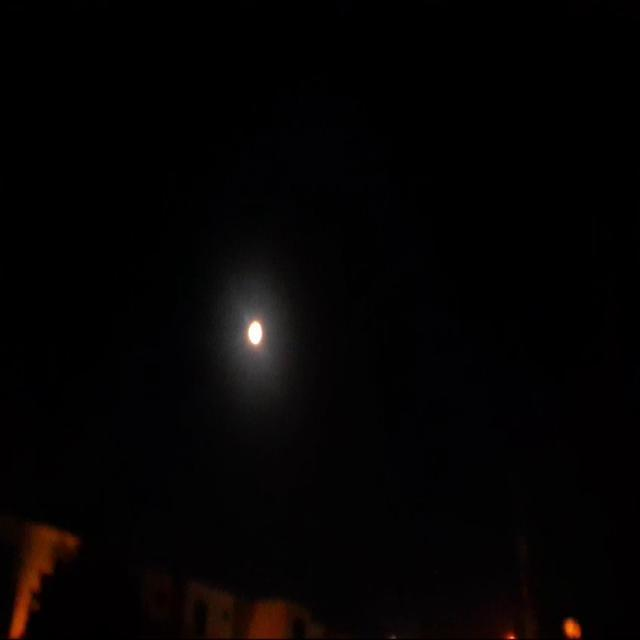moon: (242, 308, 264, 348)
